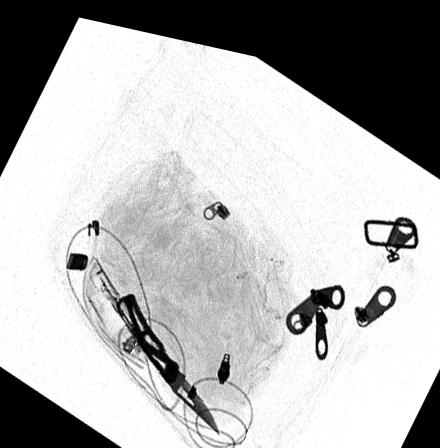Knife: (116, 286, 222, 426)
